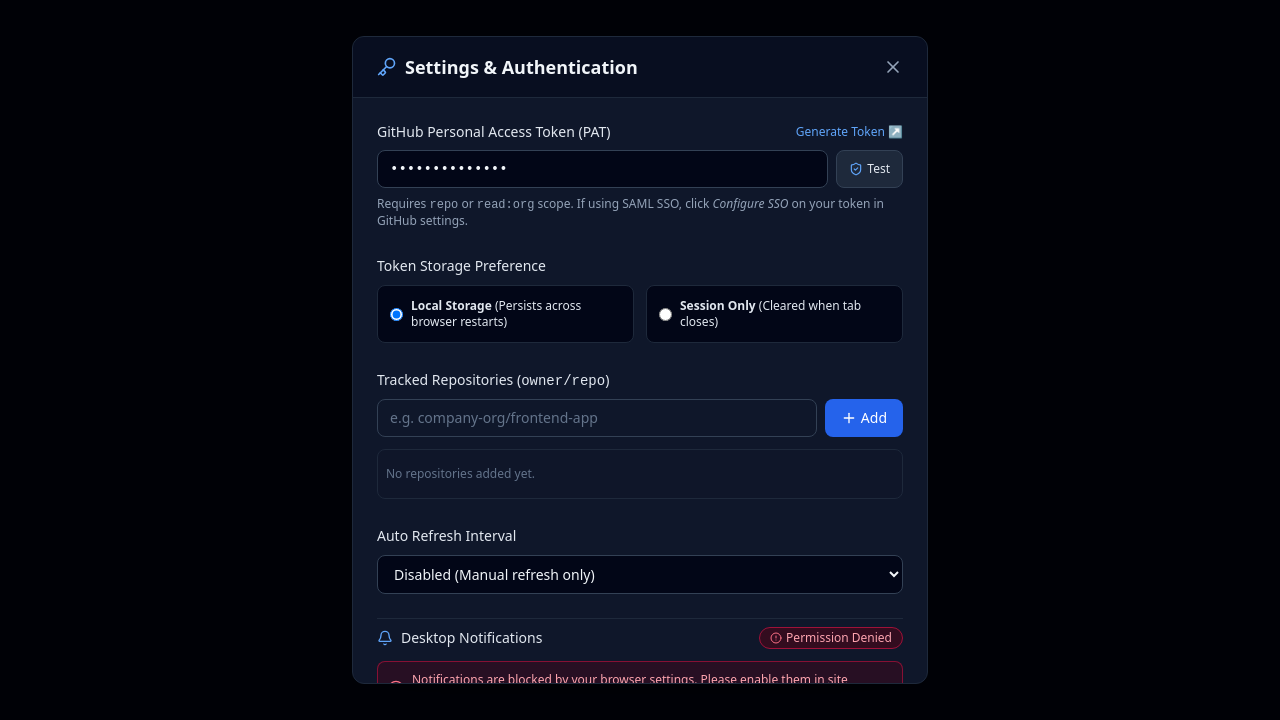
SettingsModal › verifies token successfully and displays user login
Click the button "Test".
click(870, 169)  # box [836, 150, 903, 188]
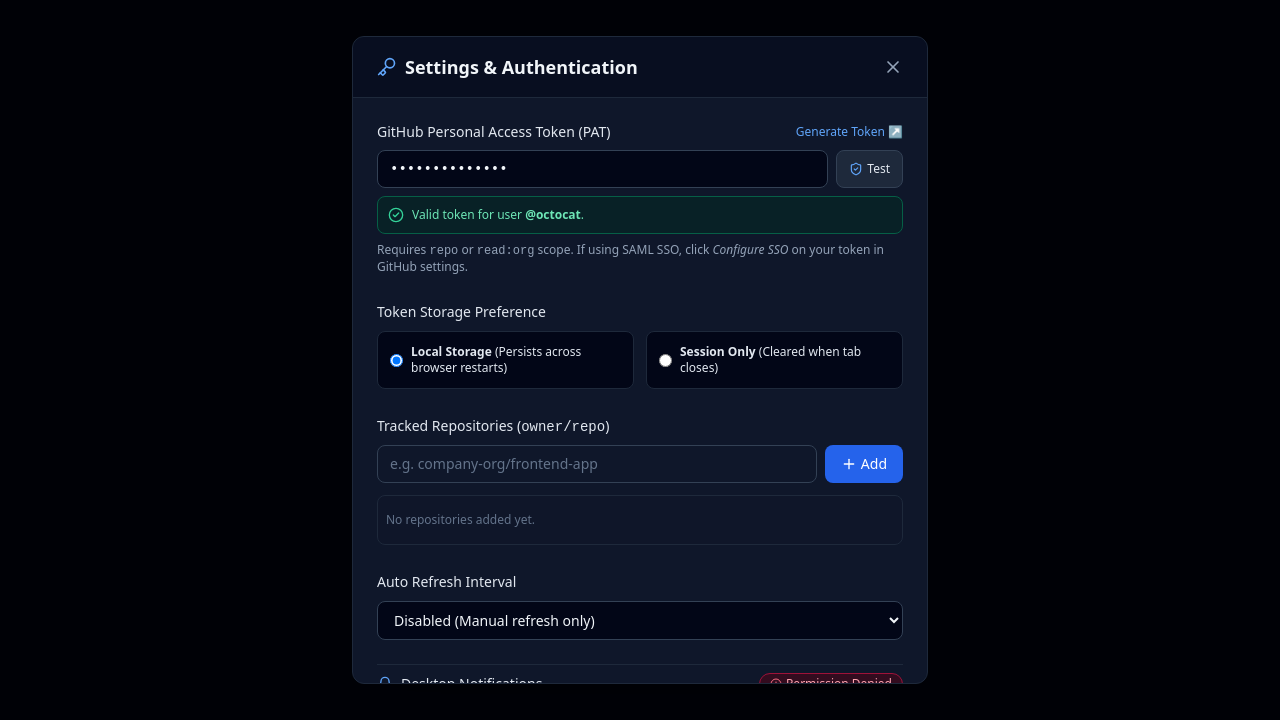
Check: the text "Valid token for user @octocat." is shown, box [412, 207, 584, 223]
Check: the text "@octocat" is shown, box [525, 206, 581, 223]
